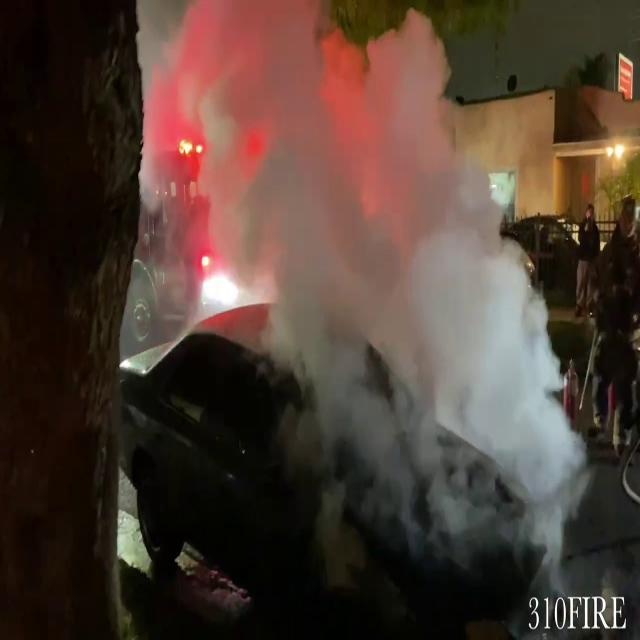Smoke: (261, 3, 581, 593)
